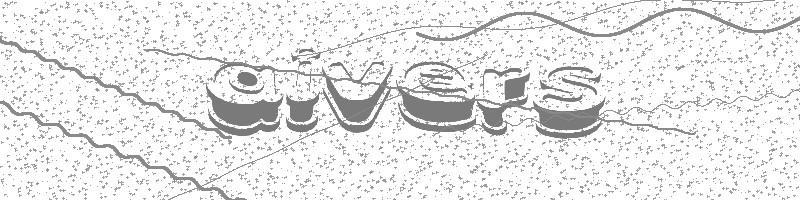a: (205, 61, 286, 137)
e: (395, 60, 478, 134)
i: (286, 47, 320, 134)
r: (478, 67, 529, 135)
s: (532, 65, 605, 139)
v: (320, 61, 393, 135)
